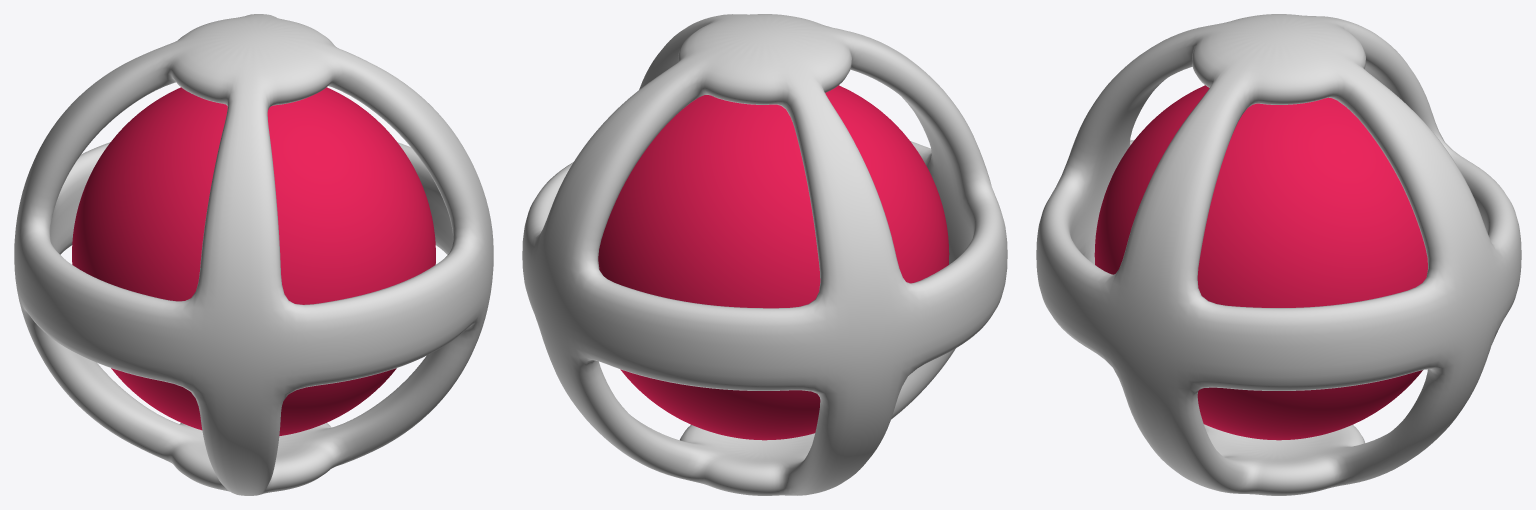
The model's file is item_fluxcore.glb.
3 renders of one model, left to right at view 1: azimuth 30°, elevation 25°; view 2: azimuth 150°, elevation 25°; view 3: azimuth 270°, elevation 25°, orthographic.
Visible parts, largest first — view 1: cage, core_ball; view 2: cage, core_ball; view 3: cage, core_ball.
Boxes of the visible parts, x1=… form: cage: x1=14, y1=14, x2=493, y2=495; core_ball: x1=72, y1=87, x2=435, y2=435; cage: x1=522, y1=14, x2=1007, y2=495; core_ball: x1=598, y1=85, x2=949, y2=440; cage: x1=1036, y1=14, x2=1521, y2=495; core_ball: x1=1094, y1=85, x2=1427, y2=440.
Size of the model in its own units: 1.97 by 2 by 1.97.
